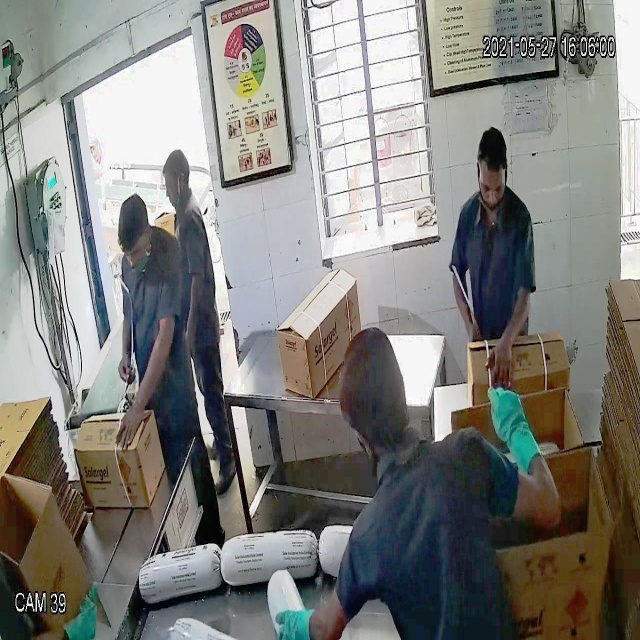Sin_gafas: (474, 166, 514, 206)
